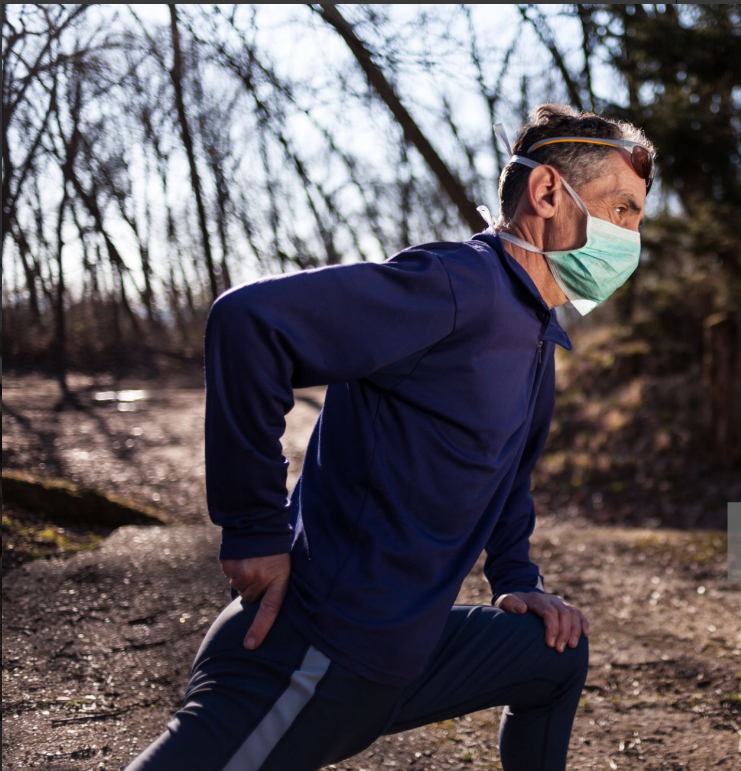with_mask: (497, 116, 657, 310)
